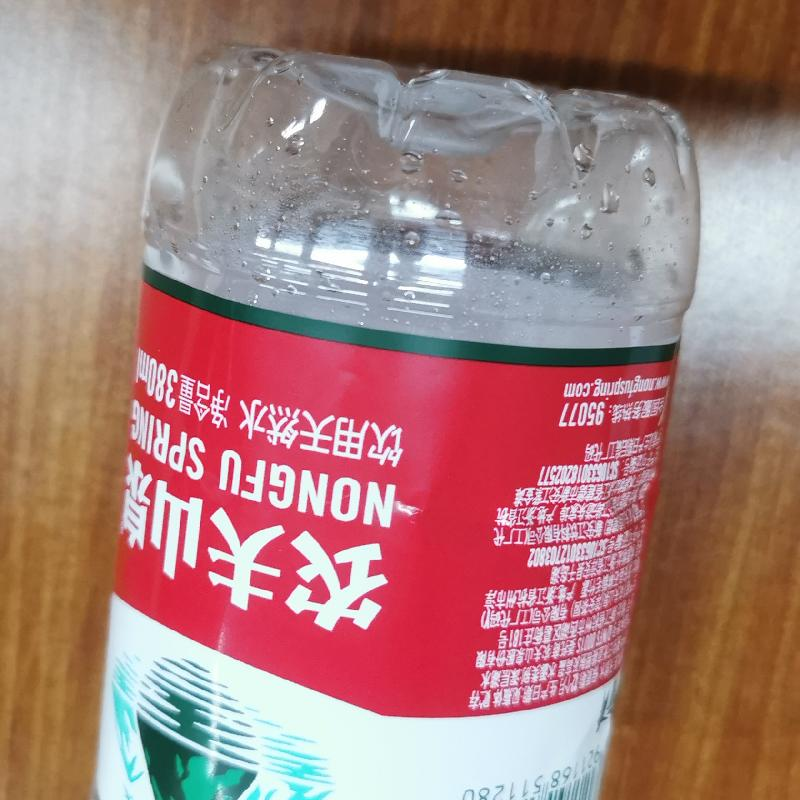bottles: (85, 44, 706, 800)
